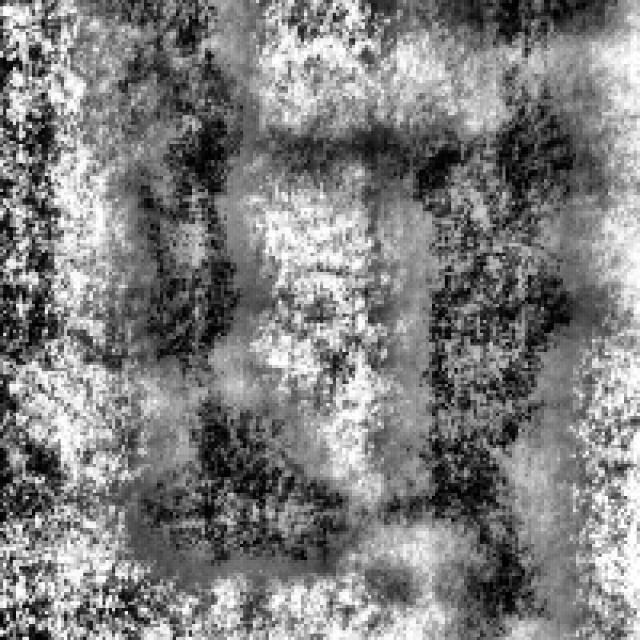Scratches: (378, 0, 604, 634), (99, 0, 346, 573)
